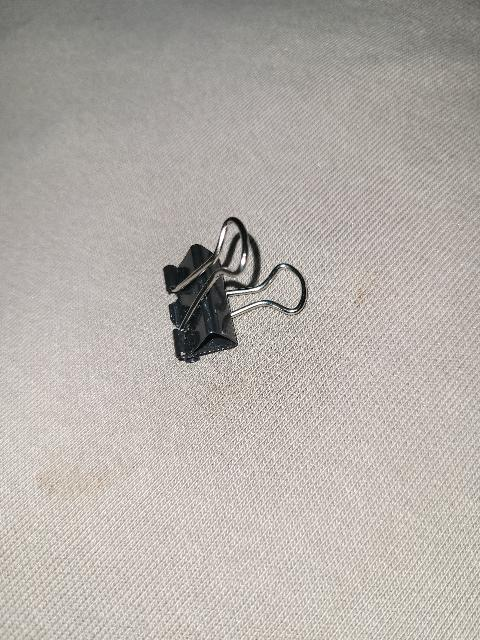Plastik: (160, 227, 340, 358)
